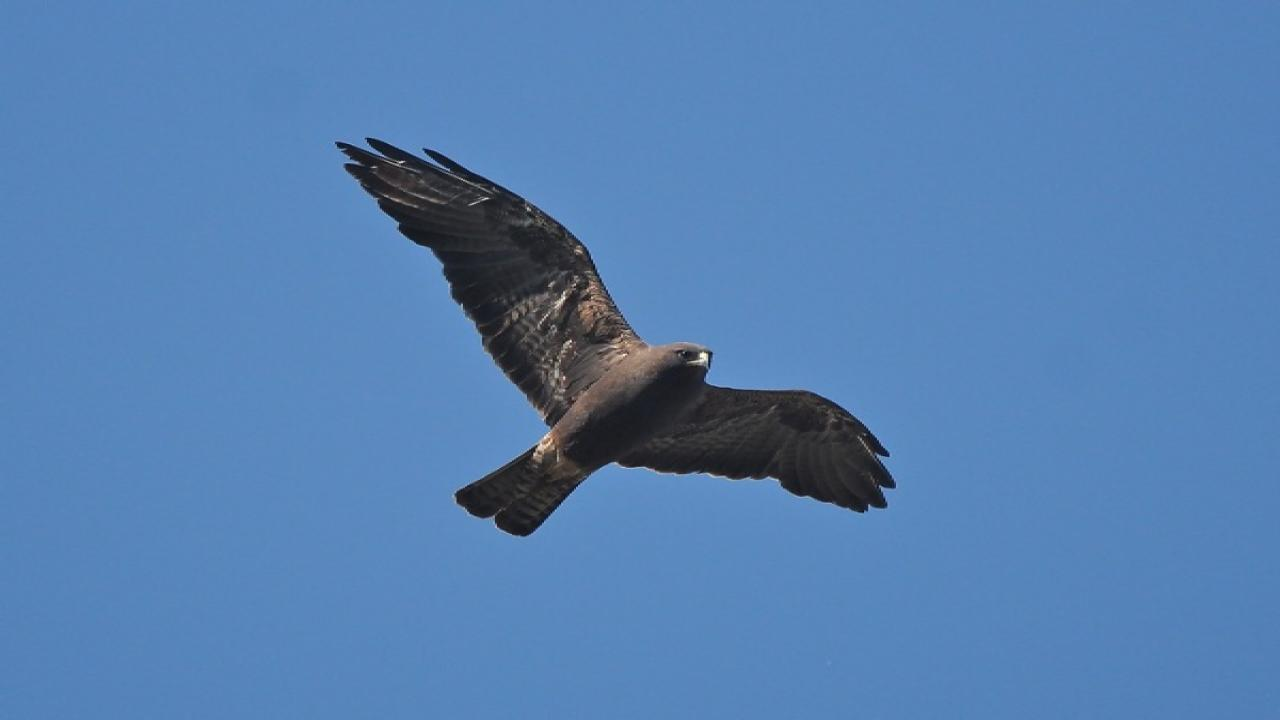Bird: (318, 124, 916, 549)
